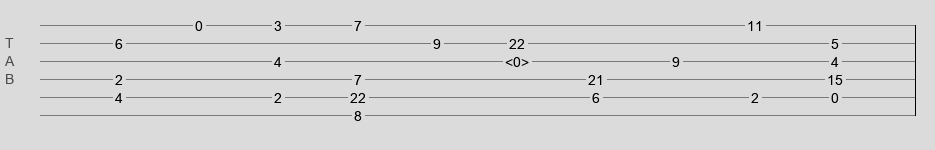0: (195, 18, 203, 28), (831, 90, 839, 100)
11: (747, 18, 763, 28)
15: (827, 72, 843, 82)
2: (115, 72, 123, 82), (274, 90, 282, 100), (751, 90, 759, 100)
21: (588, 72, 604, 82)
22: (350, 90, 366, 100), (509, 36, 525, 46)
3: (274, 18, 282, 28)
4: (115, 90, 123, 100), (274, 54, 282, 64), (831, 54, 839, 64)
5: (831, 36, 839, 46)
6: (115, 36, 123, 46), (592, 90, 600, 100)
7: (354, 72, 362, 82), (354, 18, 362, 28)
8: (354, 108, 362, 118)
9: (433, 36, 441, 46), (672, 54, 680, 64)
harmonic: (505, 54, 529, 64)
